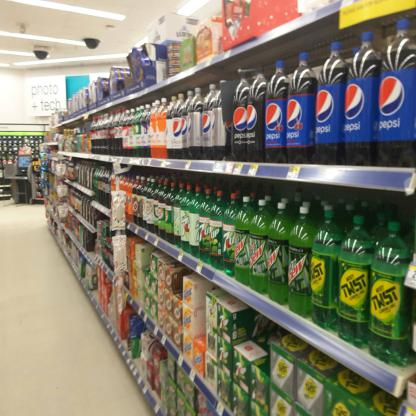Void: (232, 314, 269, 364), (194, 287, 204, 343), (173, 270, 182, 294)
